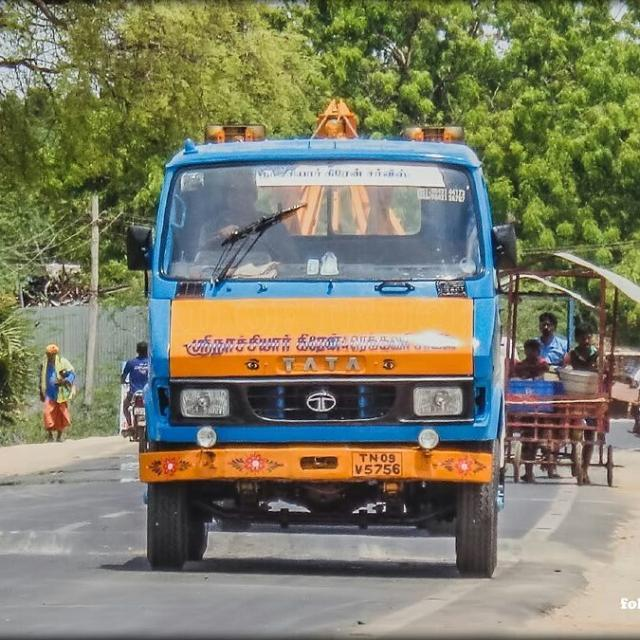Truck: (124, 136, 518, 582)
